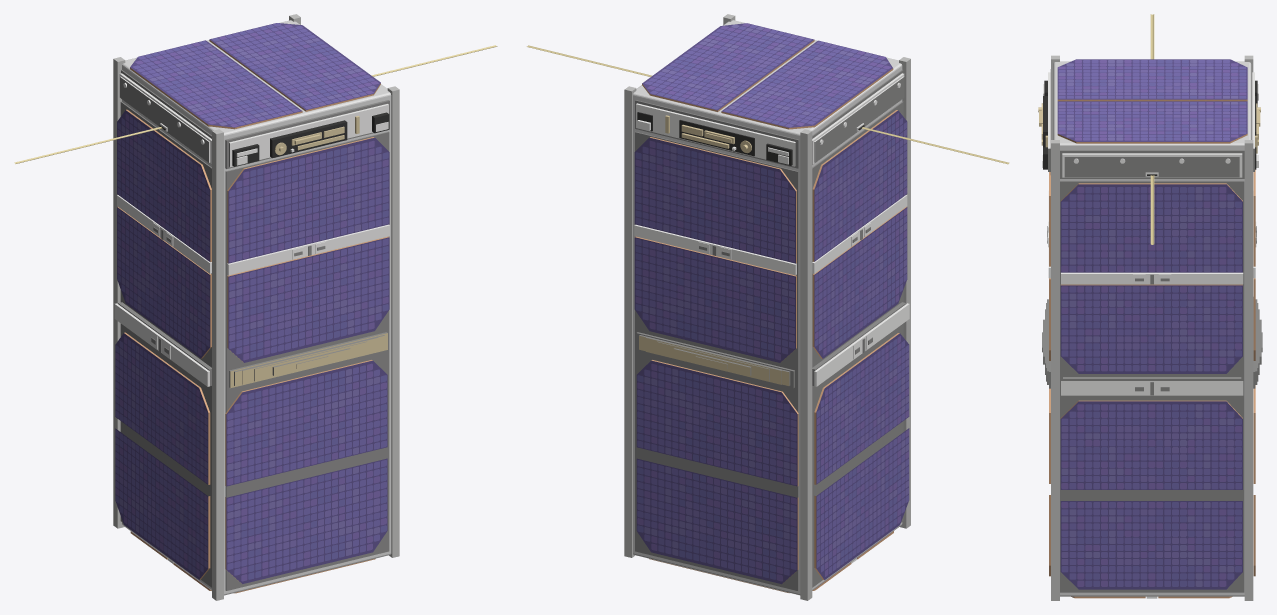
Rendered from cube-sat-2-ru-generic.glb.
3 views of the same model, side by side, from view 1: azimuth 30°, elevation 25°; view 2: azimuth 150°, elevation 25°; view 3: azimuth 270°, elevation 25° (orthographic). The views are drawn at different scales.
Parts seen in each view (by area): view 1: Layer_0; view 2: Layer_0; view 3: Layer_0.
Boxes of the visible parts, x1,y1,x2,y2 form: Layer_0: (14,14,497,600); Layer_0: (527,14,1009,600); Layer_0: (1038,14,1262,600).
Bounding box in the file's own units: 5.39 × 5 × 2.21.
